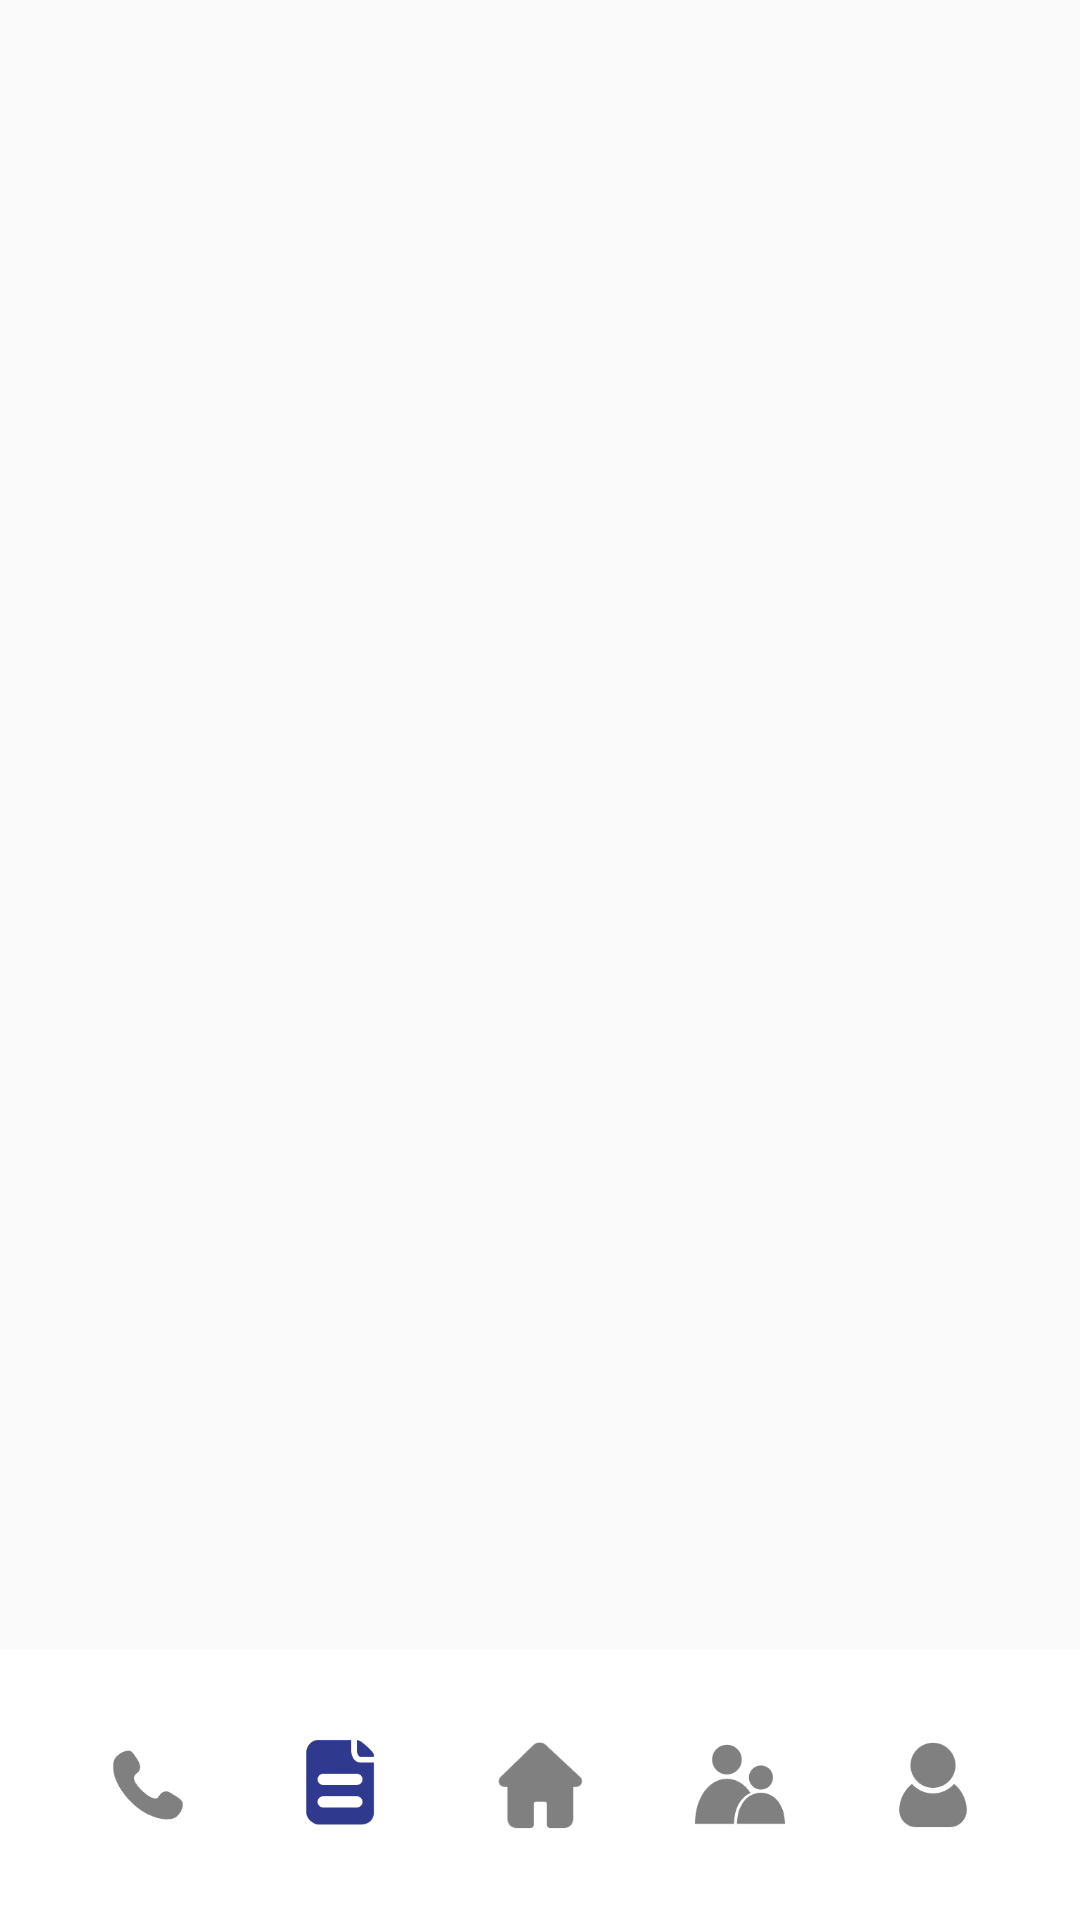

Screen size 1080px×1920px. Icon name, then its box in pixels as (x1, y1, x2, y2):
document: (306, 1740, 374, 1825)
home: (498, 1742, 582, 1828)
person: (899, 1743, 967, 1827)
phone: (113, 1750, 183, 1820)
